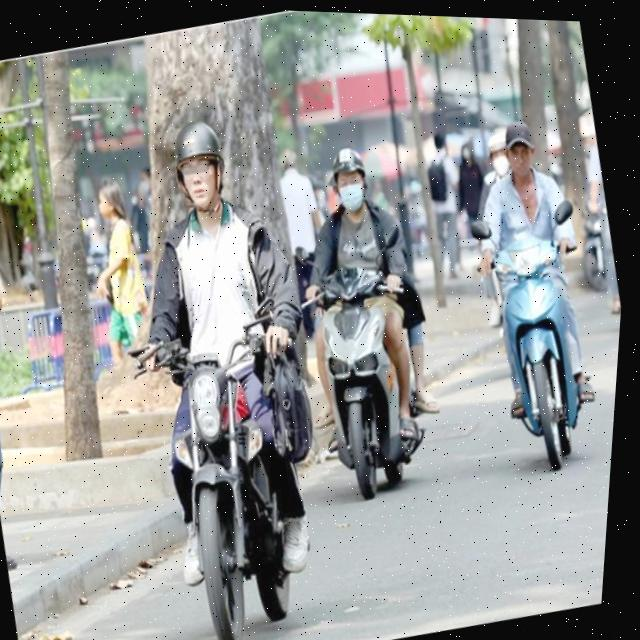motorcycle: (117, 294, 363, 640), (457, 211, 626, 490), (286, 243, 448, 516)
